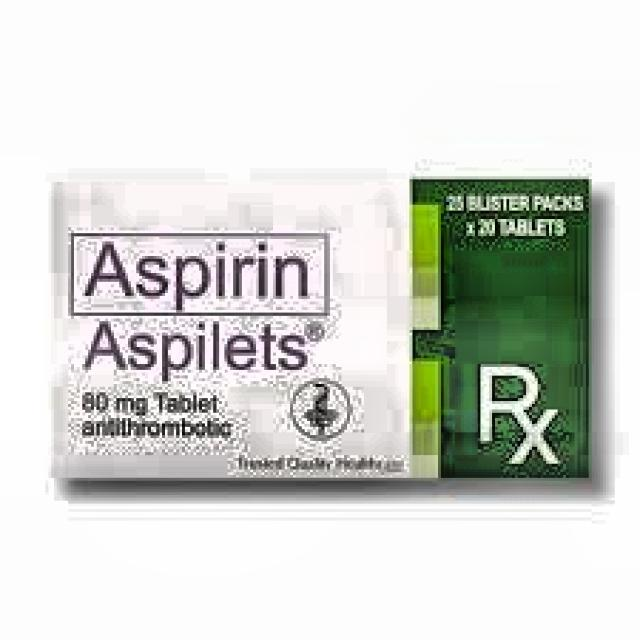Aspirin: (50, 187, 448, 478)
